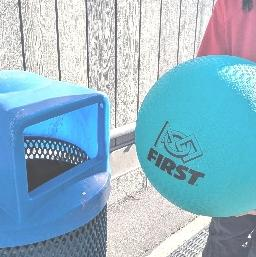algae: (134, 53, 256, 210)
